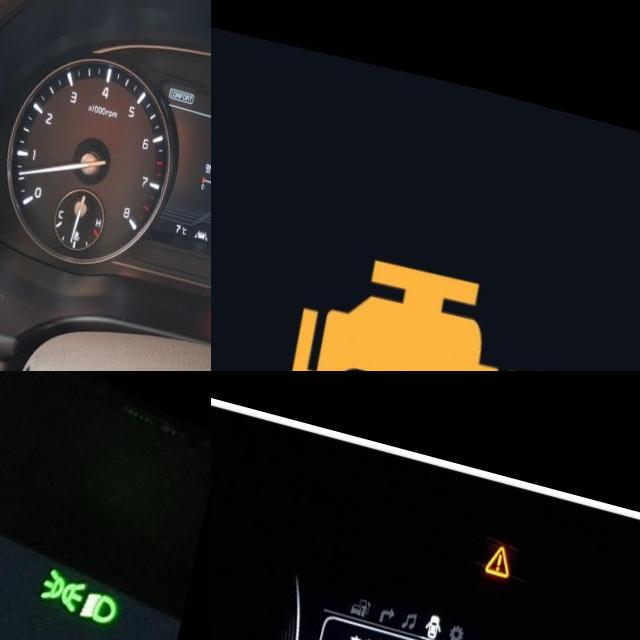Central Warning lamp: (488, 518, 518, 553)
Low beam: (88, 555, 133, 601)
SideLamp: (45, 535, 100, 588)
